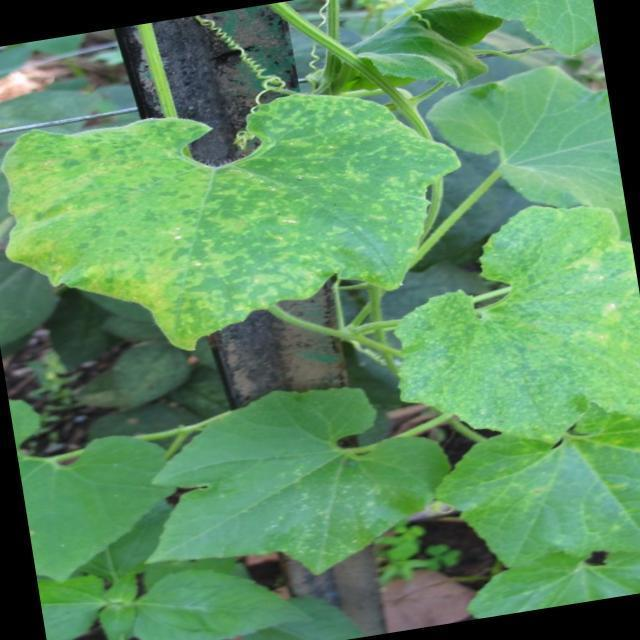Mosaic Virus: (8, 81, 454, 349)
